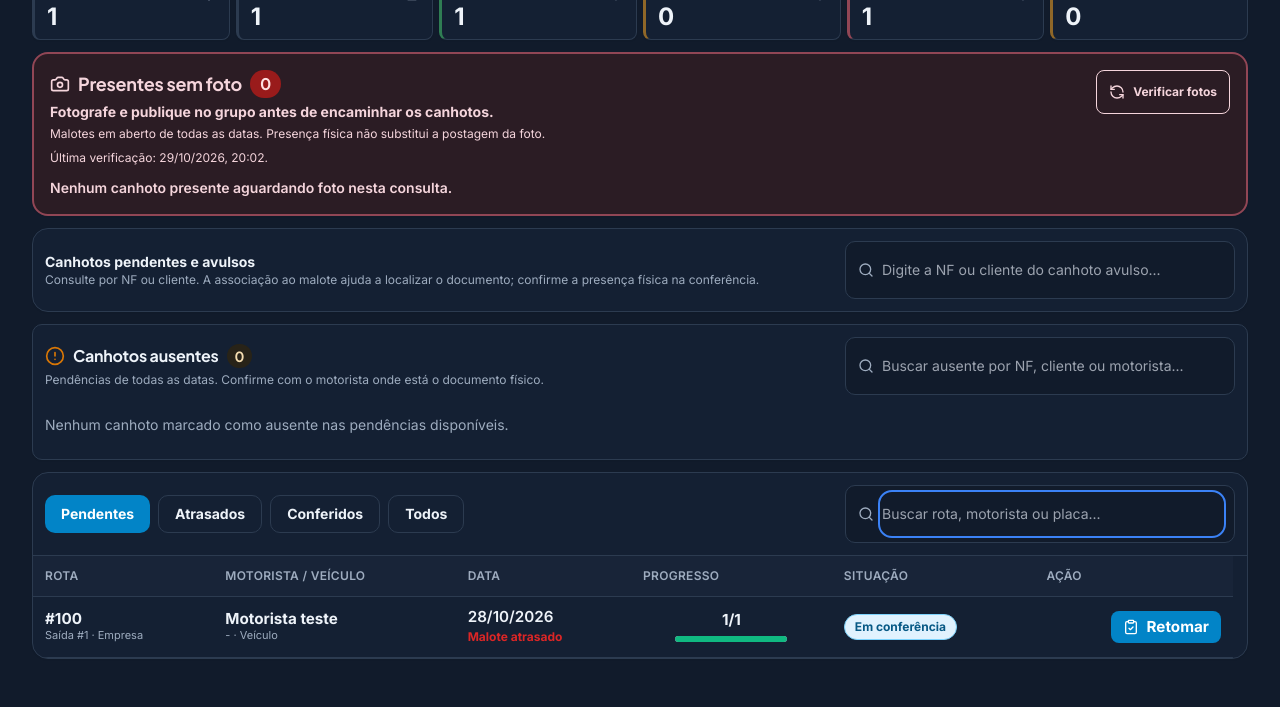
Test: confirmar presença sem foto destaca a NF imediatamente e mantém fechamento bloqueado
(page scrolled)
Click the button "Retomar" at [1166, 627], box [1111,611,1221,643]
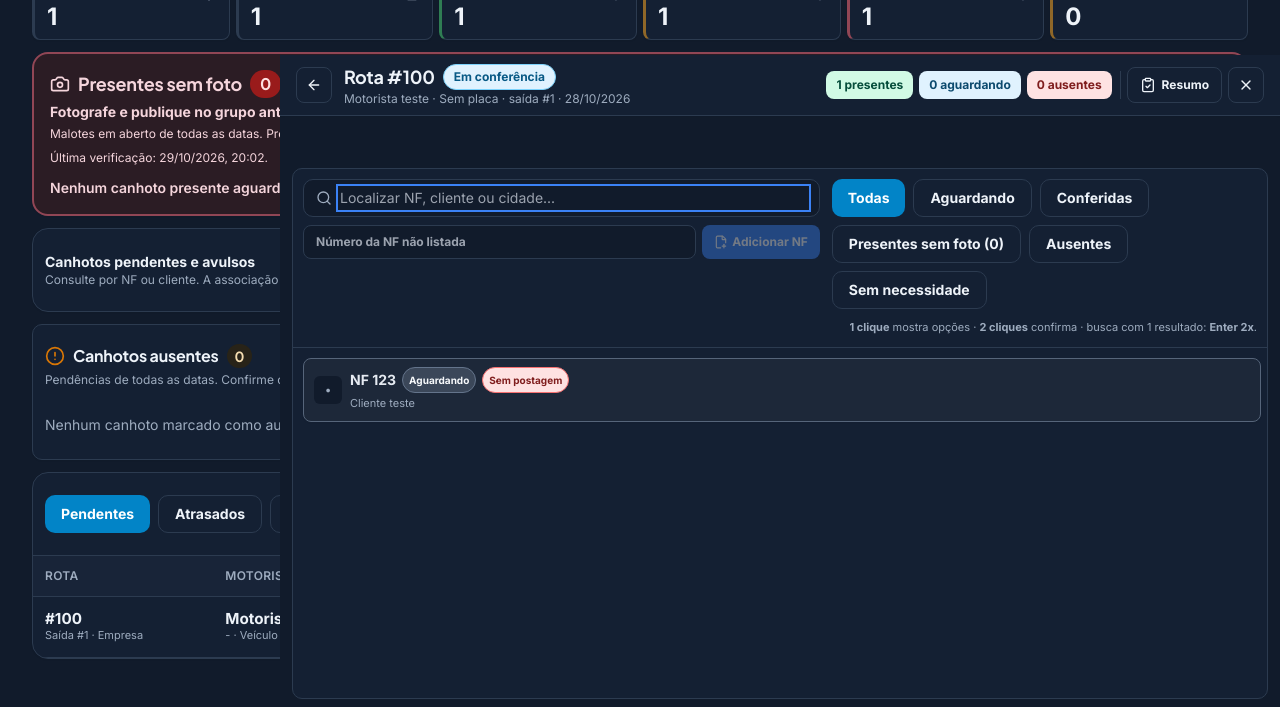
Double-click the text "NF 123" at [373, 380], box [350,370,396,390]
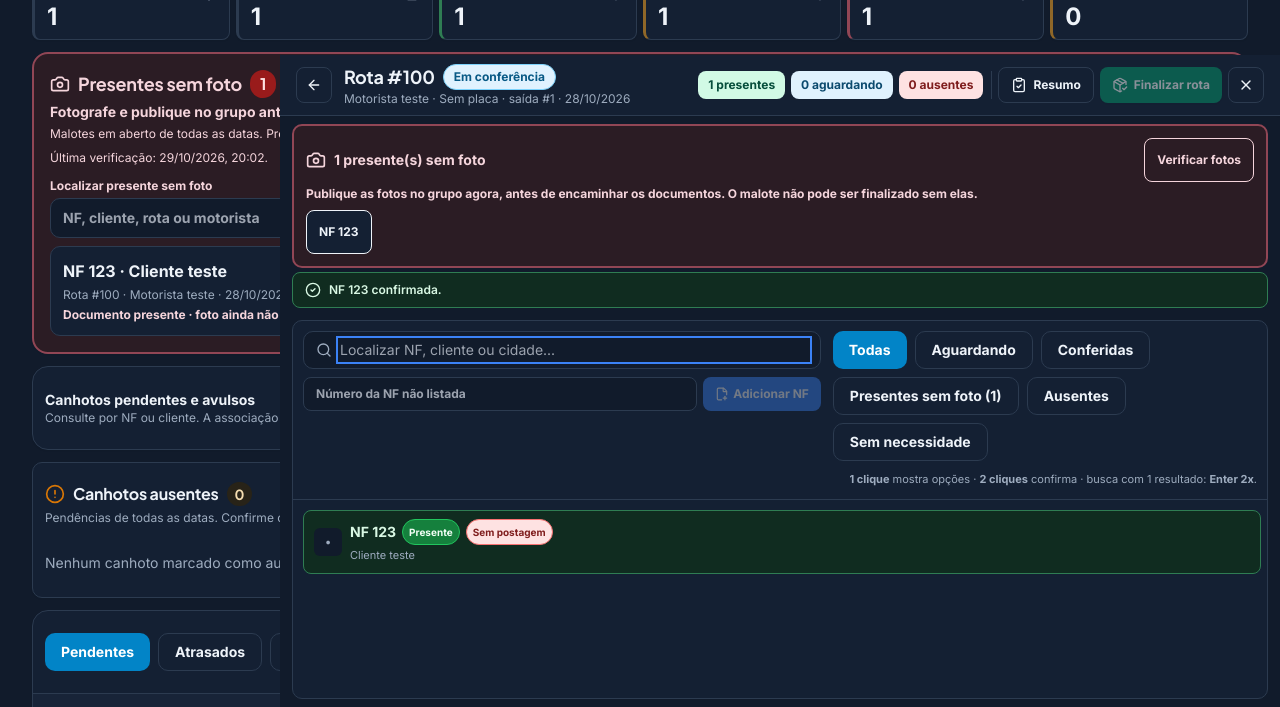
Now the element named "Fotos pendentes nesta rota" shows "NF 123", box [292,124,1268,268]
Now the button "Finalizar rota" is disabled, box [1100,67,1222,103]
